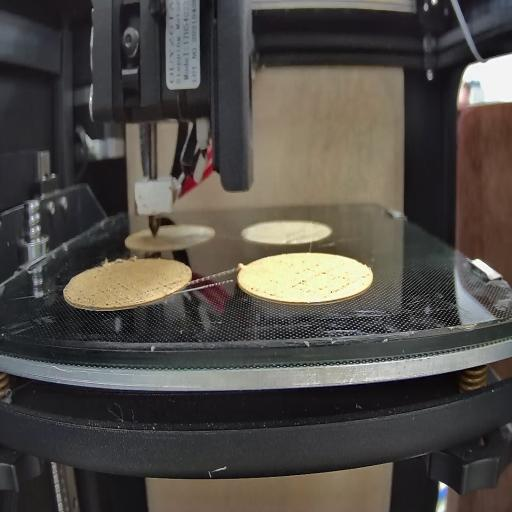under_extrusion: (288, 259, 352, 295), (80, 273, 135, 307), (144, 277, 179, 300), (249, 284, 275, 300)
